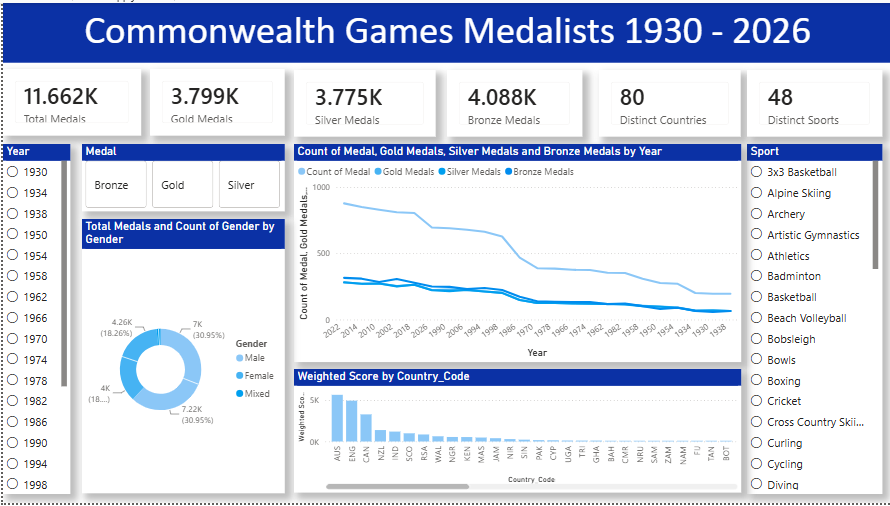

The page's visual inventory and layout, read from the dashboard file:
{"tool":"powerbi","page":{"name":"Overview","canvas":[1280,720],"ordinal":0},"visuals":[{"type":"textbox","box":[0,0,1280.3,86.4],"z":0},{"type":"cardVisual","title":"Total Number of Medals","fields":{"Data":["Commonwealth_Medalists_1930_2026.Total Medals"]},"box":[0,95.7,198.6,95.7],"z":1000},{"type":"cardVisual","title":"Total Gold Medals","fields":{"Data":["Commonwealth_Medalists_1930_2026.Gold Medals"]},"box":[211.4,95.7,194.3,95.7],"z":2000},{"type":"cardVisual","fields":{"Data":["Commonwealth_Medalists_1930_2026.Silver Medals"]},"box":[418.5,96.1,204.5,96.1],"z":3000},{"type":"cardVisual","fields":{"Data":["Commonwealth_Medalists_1930_2026.Bronze Medals"]},"box":[639.5,96.1,194.9,96.1],"z":4000},{"type":"cardVisual","fields":{"Data":["Commonwealth_Medalists_1930_2026.Distinct Countries"]},"box":[857.6,96.1,204.5,96.1],"z":5000},{"type":"cardVisual","fields":{"Data":["Commonwealth_Medalists_1930_2026.Distinct Sports"]},"box":[1071.7,96.1,194.9,96.1],"z":6000},{"type":"listSlicer","fields":{"Values":["Commonwealth_Medalists_1930_2026.Year"]},"box":[0,203.1,97.4,503.6],"z":7000},{"type":"advancedSlicerVisual","fields":{"Values":["Commonwealth_Medalists_1930_2026.Medal"]},"box":[113.9,203.1,292.3,97.4],"z":8000},{"type":"listSlicer","fields":{"Values":["Commonwealth_Medalists_1930_2026.Sport"]},"box":[1071.7,203.1,194.9,503.6],"z":9000},{"type":"lineChart","fields":{"Y":["CountNonNull(Commonwealth_Medalists_1930_2026.Medal)","Commonwealth_Medalists_1930_2026.Gold Medals","Commonwealth_Medalists_1930_2026.Silver Medals","Commonwealth_Medalists_1930_2026.Bronze Medals"],"Category":["Commonwealth_Medalists_1930_2026.Year"]},"box":[418.5,203.1,643.6,314.2],"z":10000},{"type":"donutChart","fields":{"Category":["Commonwealth_Medalists_1930_2026.Gender"],"Y":["Commonwealth_Medalists_1930_2026.Total Medals","CountNonNull(Commonwealth_Medalists_1930_2026.Gender)"]},"box":[113.9,311.5,292.3,395.2],"z":11000},{"type":"columnChart","fields":{"Category":["Commonwealth_Medalists_1930_2026.Country_Code"],"Y":["Commonwealth_Medalists_1930_2026.Weighted Score"]},"box":[418.5,526.9,643.6,178.4],"z":12000}]}

Visuals, with their boxes in screenshot pixels (x1, y1, x2, y2), scaled from the page's 1280x720 canvas onto the 890x506 screenshot:
textbox: (x1=0, y1=0, x2=889, y2=61)
"Total Number of Medals" cardVisual: (x1=0, y1=67, x2=138, y2=135)
"Total Gold Medals" cardVisual: (x1=147, y1=67, x2=282, y2=135)
cardVisual - Commonwealth_Medalists_1930_2026.Silver Medals: (x1=291, y1=68, x2=433, y2=135)
cardVisual - Commonwealth_Medalists_1930_2026.Bronze Medals: (x1=445, y1=68, x2=580, y2=135)
cardVisual - Commonwealth_Medalists_1930_2026.Distinct Countries: (x1=596, y1=68, x2=738, y2=135)
cardVisual - Commonwealth_Medalists_1930_2026.Distinct Sports: (x1=745, y1=68, x2=881, y2=135)
listSlicer - Commonwealth_Medalists_1930_2026.Year: (x1=0, y1=143, x2=68, y2=497)
advancedSlicerVisual - Commonwealth_Medalists_1930_2026.Medal: (x1=79, y1=143, x2=282, y2=211)
listSlicer - Commonwealth_Medalists_1930_2026.Sport: (x1=745, y1=143, x2=881, y2=497)
lineChart - CountNonNull(Commonwealth_Medalists_1930_2026.Medal) x Commonwealth_Medalists_1930_2026.Gold Medals: (x1=291, y1=143, x2=738, y2=364)
donutChart - Commonwealth_Medalists_1930_2026.Gender x Commonwealth_Medalists_1930_2026.Total Medals: (x1=79, y1=219, x2=282, y2=497)
columnChart - Commonwealth_Medalists_1930_2026.Country_Code x Commonwealth_Medalists_1930_2026.Weighted Score: (x1=291, y1=370, x2=738, y2=496)
